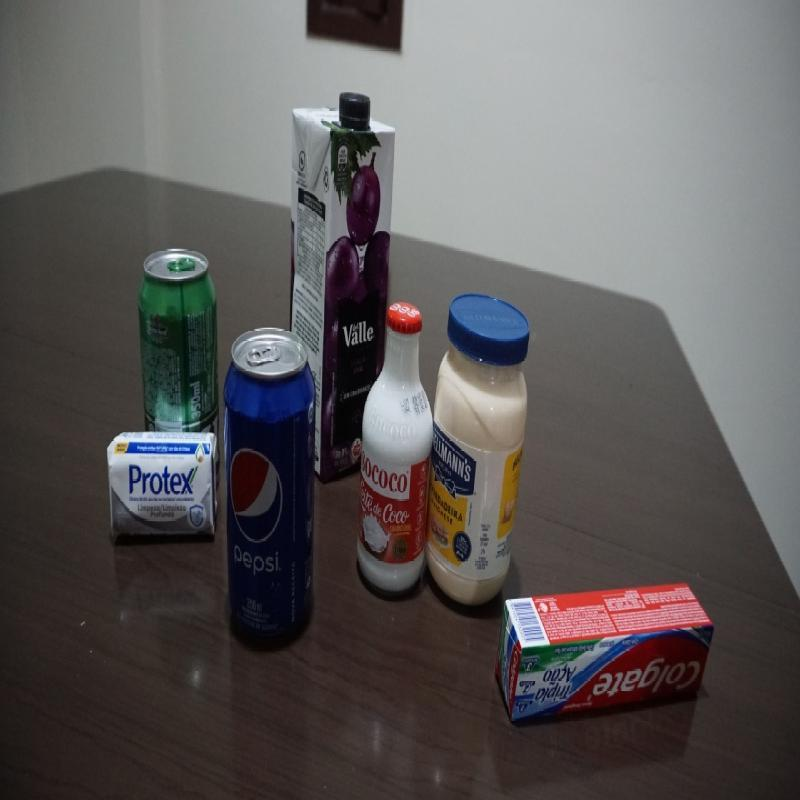Beer can: (140, 253, 219, 425)
Coconut Milk: (357, 304, 431, 594)
Mayonnaise: (428, 293, 532, 603)
Soap: (107, 431, 217, 541)
Soda can: (223, 328, 318, 642)
Toothpaste: (495, 583, 711, 720)
